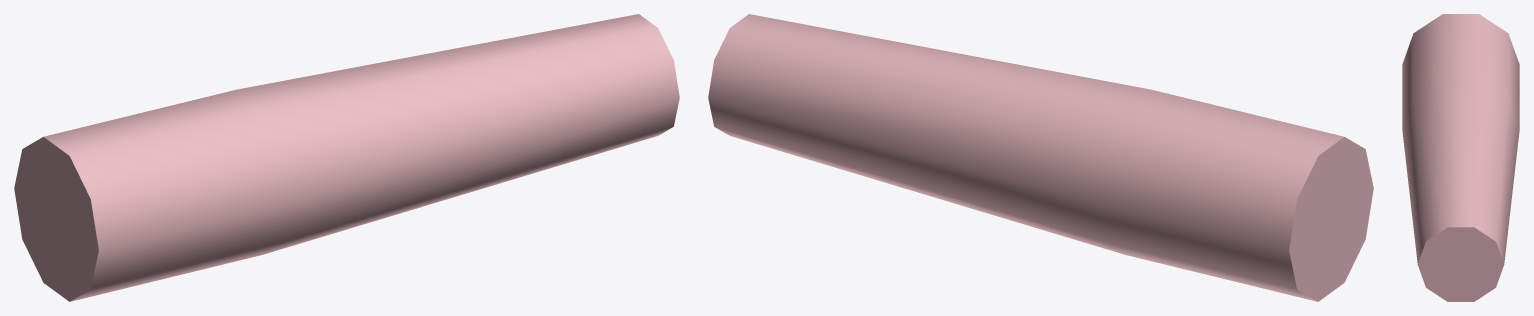
Rendered from Pestle_Placeholder.glb.
3 renders of one model, left to right at view 1: azimuth 30°, elevation 25°; view 2: azimuth 150°, elevation 25°; view 3: azimuth 270°, elevation 25°, orthographic. The views are drawn at different scales.
Visible parts, largest first — view 1: Pestle_Placeholder; view 2: Pestle_Placeholder; view 3: Pestle_Placeholder.
Boxes of the visible parts, bbox=[...] form: Pestle_Placeholder: bbox=[14, 14, 679, 301]; Pestle_Placeholder: bbox=[708, 14, 1373, 301]; Pestle_Placeholder: bbox=[1402, 14, 1519, 301].
Size of the model in its own units: 0.2253 by 0.0531 by 0.0558.
